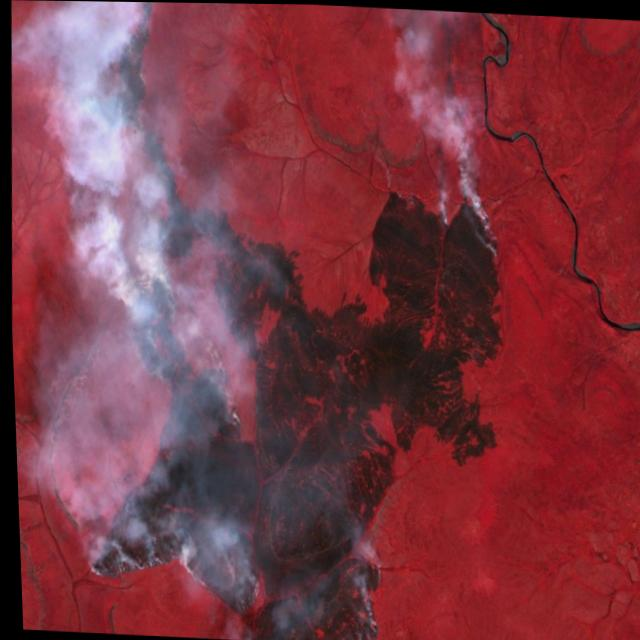fire: (68, 523, 262, 618), (119, 262, 188, 393), (429, 163, 505, 259), (109, 1, 160, 102), (339, 546, 387, 640), (198, 354, 246, 443), (61, 77, 101, 130)
